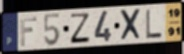4: (93, 10, 115, 44)
5: (43, 12, 61, 48)
F: (20, 16, 39, 47)
L: (145, 9, 163, 40)
X: (119, 8, 144, 42)
Z: (69, 13, 91, 45)
